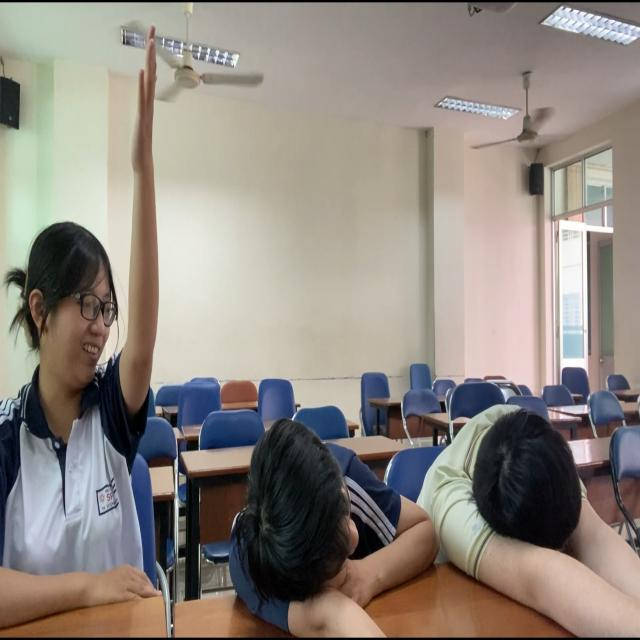raise_hand: (4, 15, 179, 640)
sleep: (185, 368, 450, 640), (409, 330, 640, 640)
